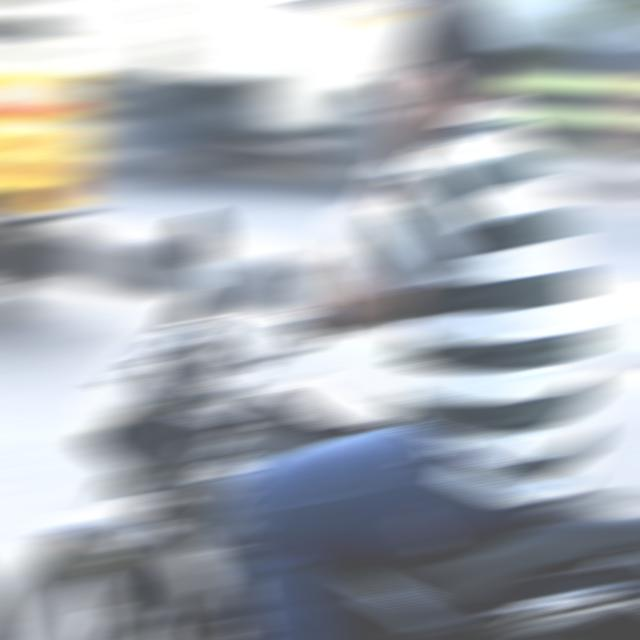Without Helmet: (372, 1, 512, 140)
